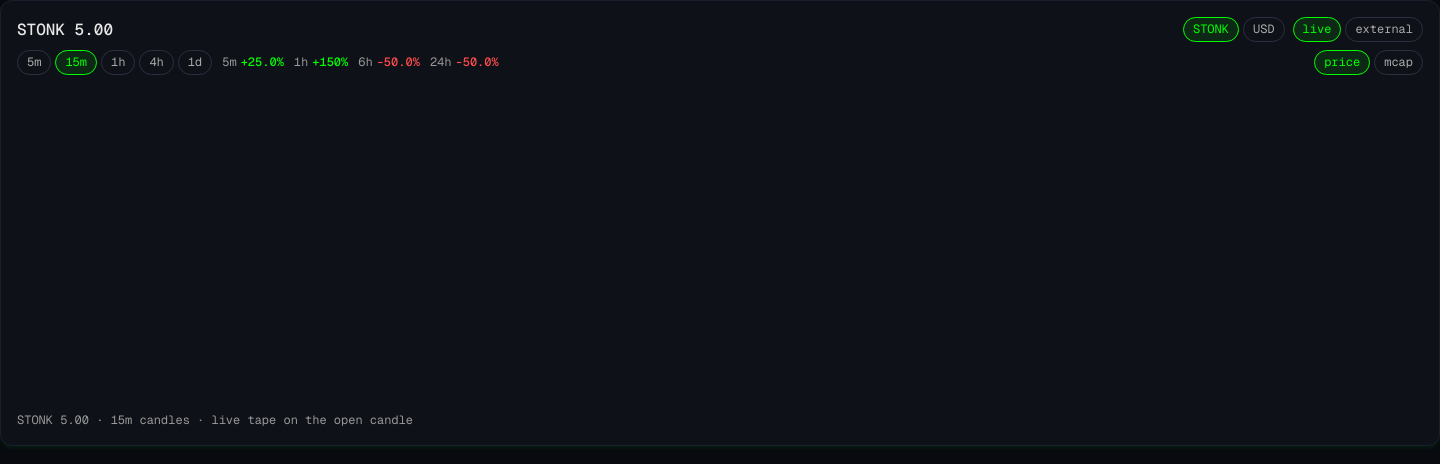
Scenario: ChartSection › switches to market cap and back with the mode pills
Click the tab "mcap": [1399, 62] box 1374,50 -> 1423,75
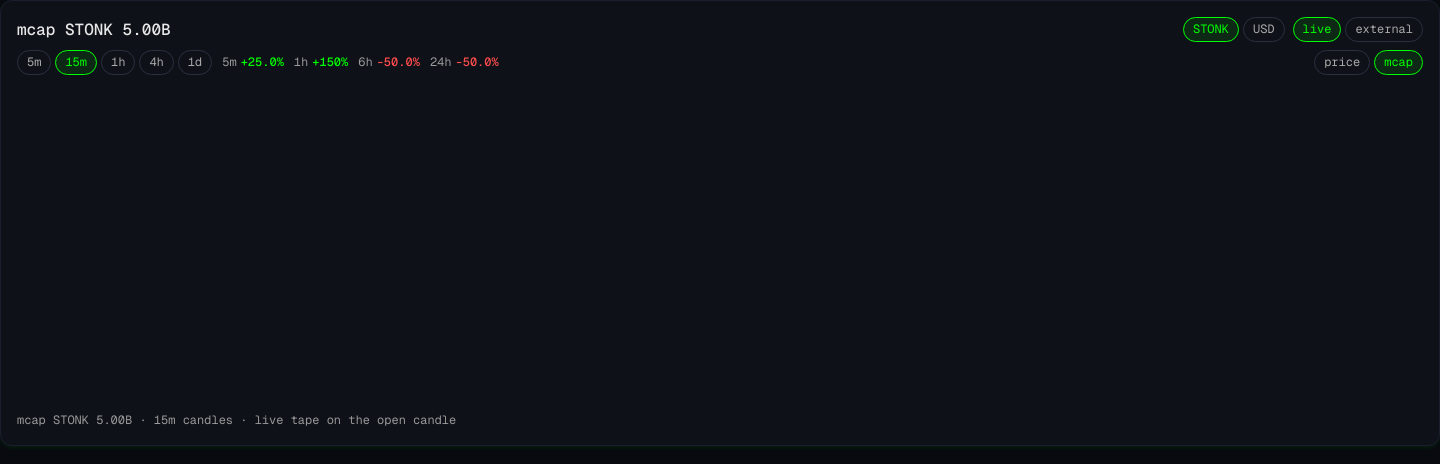
Now the text with test id "chart-price" reads "mcap STONK 5.00B", box 17,20 -> 171,39
Now the element with test id "chart-footer" shows "mcap STONK 5.00B", box 17,412 -> 456,428
Press ArrowLeft in the tab "mcap", box 1374,50 -> 1423,75
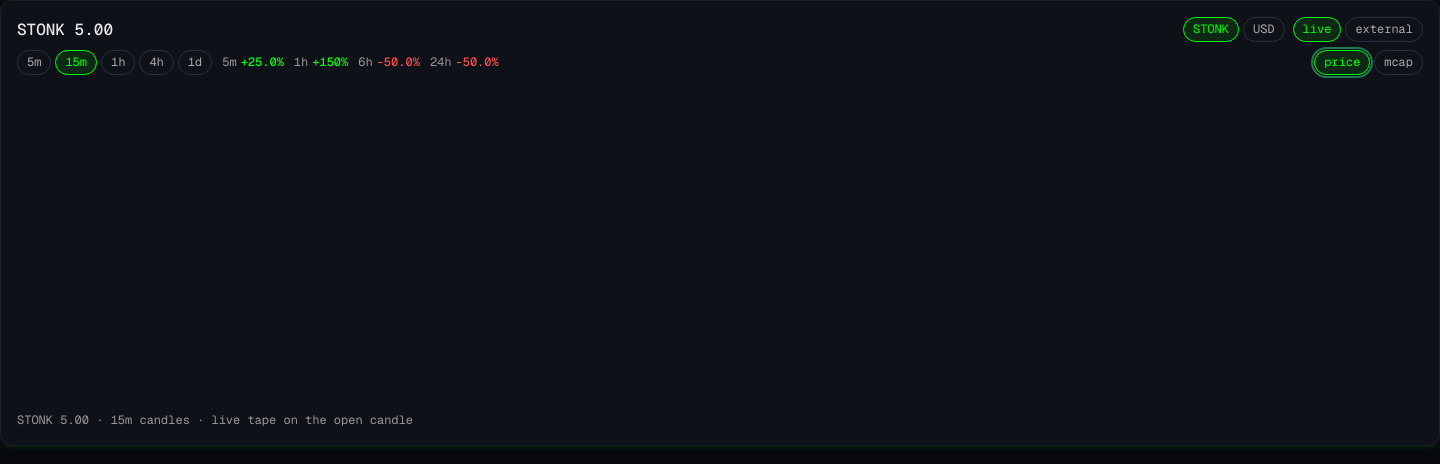
Now the text with test id "chart-price" reads "STONK 5.00", box 17,19 -> 113,40
